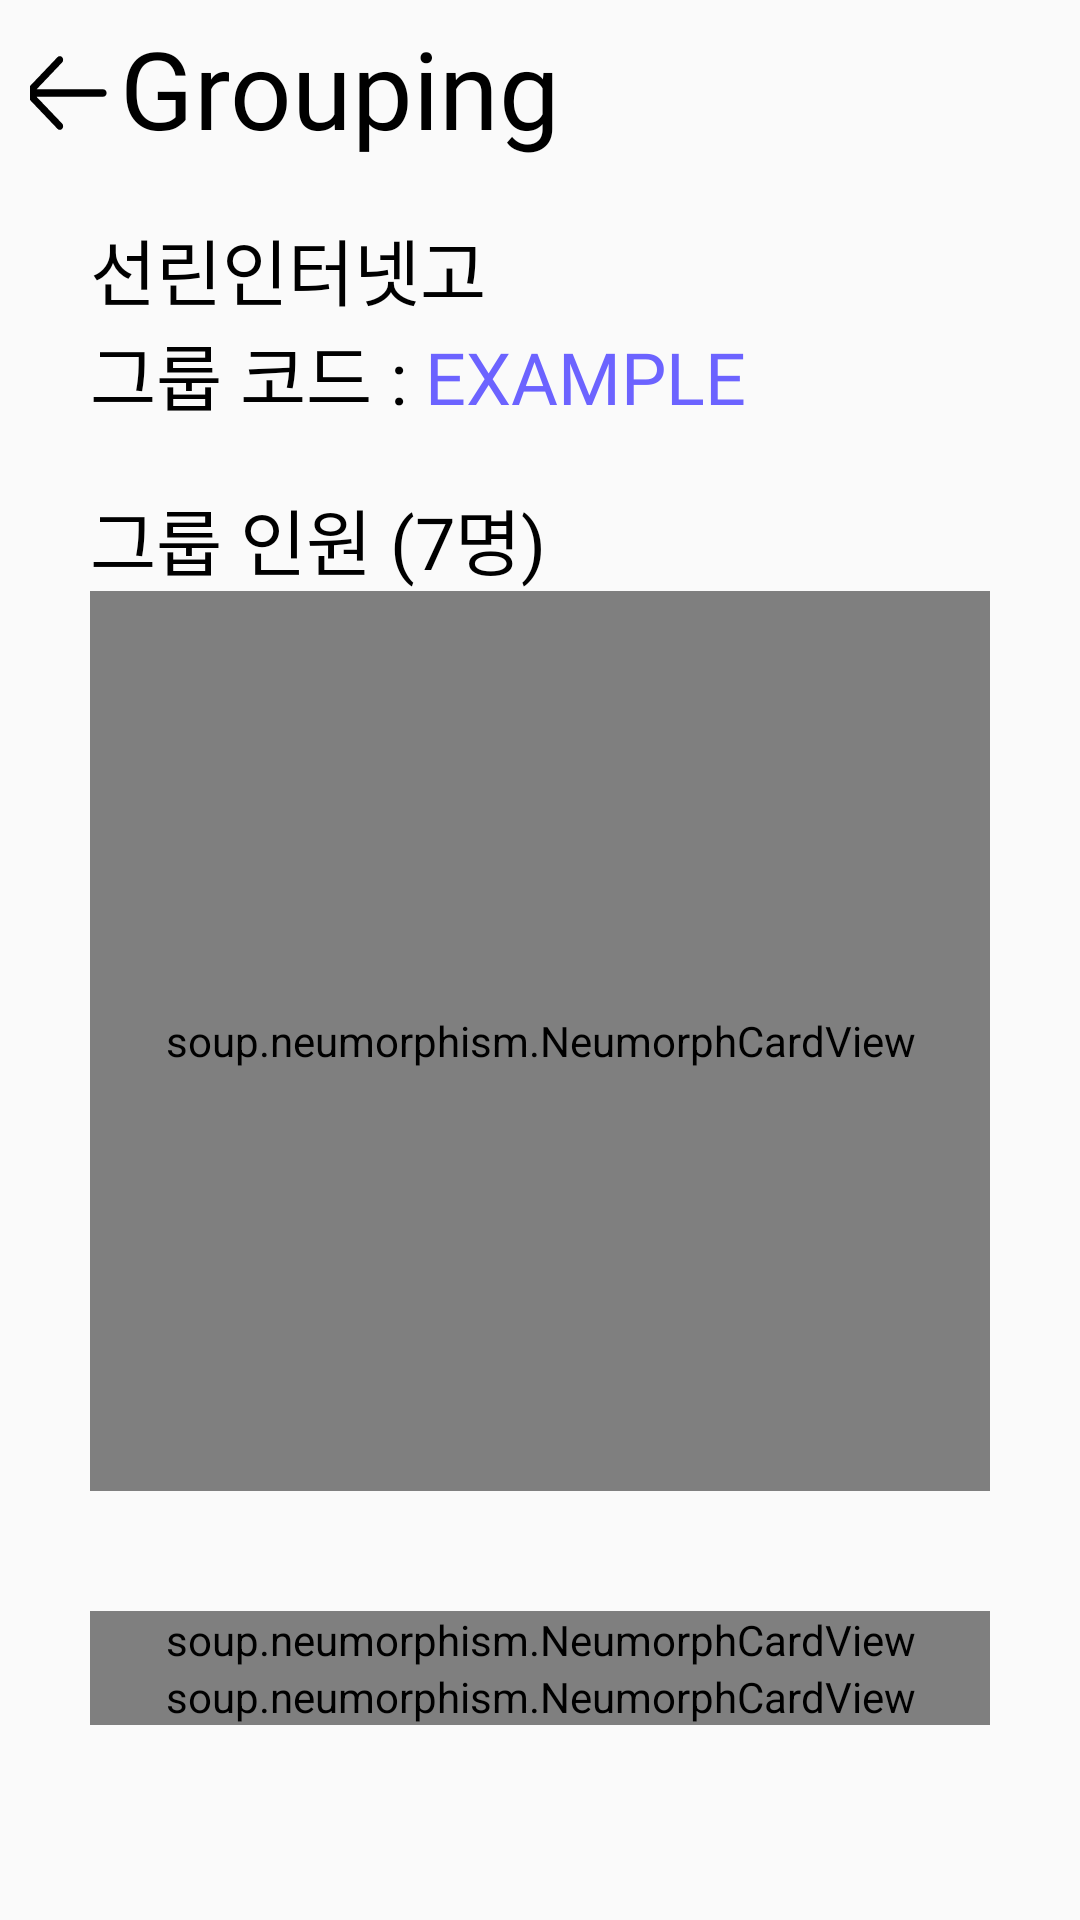

Named icons in this screenshot (1080*1920) and their centers, (x=x, y=y):
back: (x=68, y=93)
